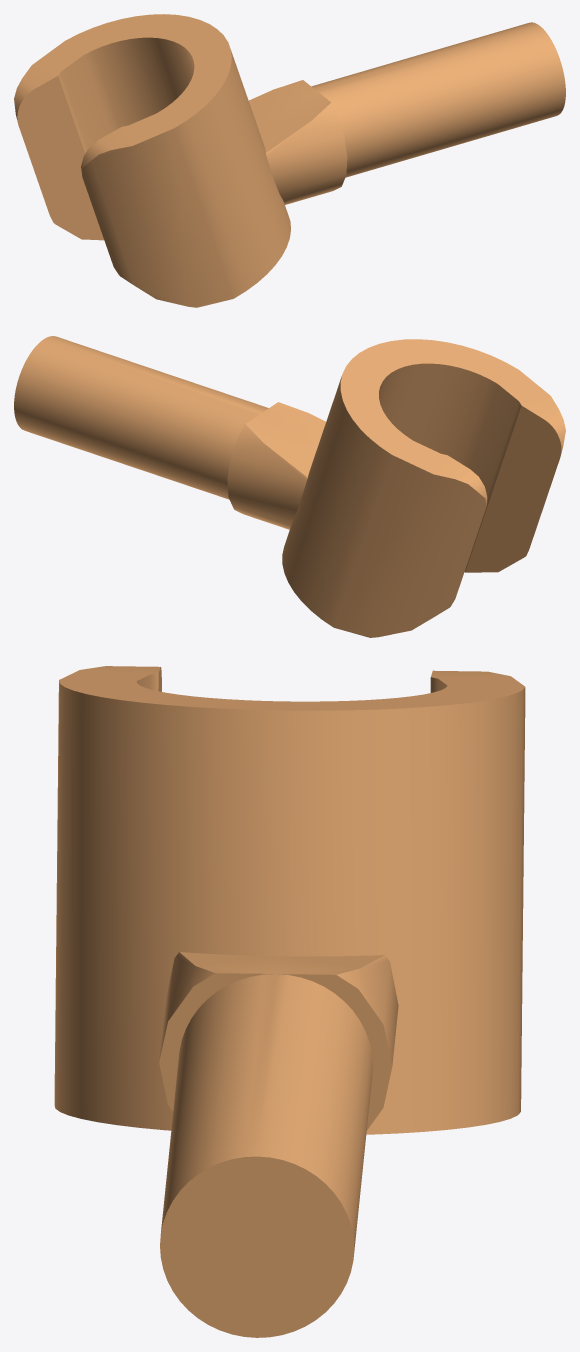
File: hand.obj
3 renders of one model, top to bottom at view 1: azimuth 30°, elevation 25°; view 2: azimuth 150°, elevation 25°; view 3: azimuth 270°, elevation 25°, orthographic. The views are drawn at different scales.
Visible parts, largest first — view 1: hand; view 2: hand; view 3: hand.
Part boxes in pixels (left/top/right/bottom): hand: left=14, top=14, right=565, bottom=307; hand: left=14, top=336, right=565, bottom=637; hand: left=54, top=666, right=525, bottom=1337.
Size of the model in its own units: 29.03 by 12.58 by 12.11.
